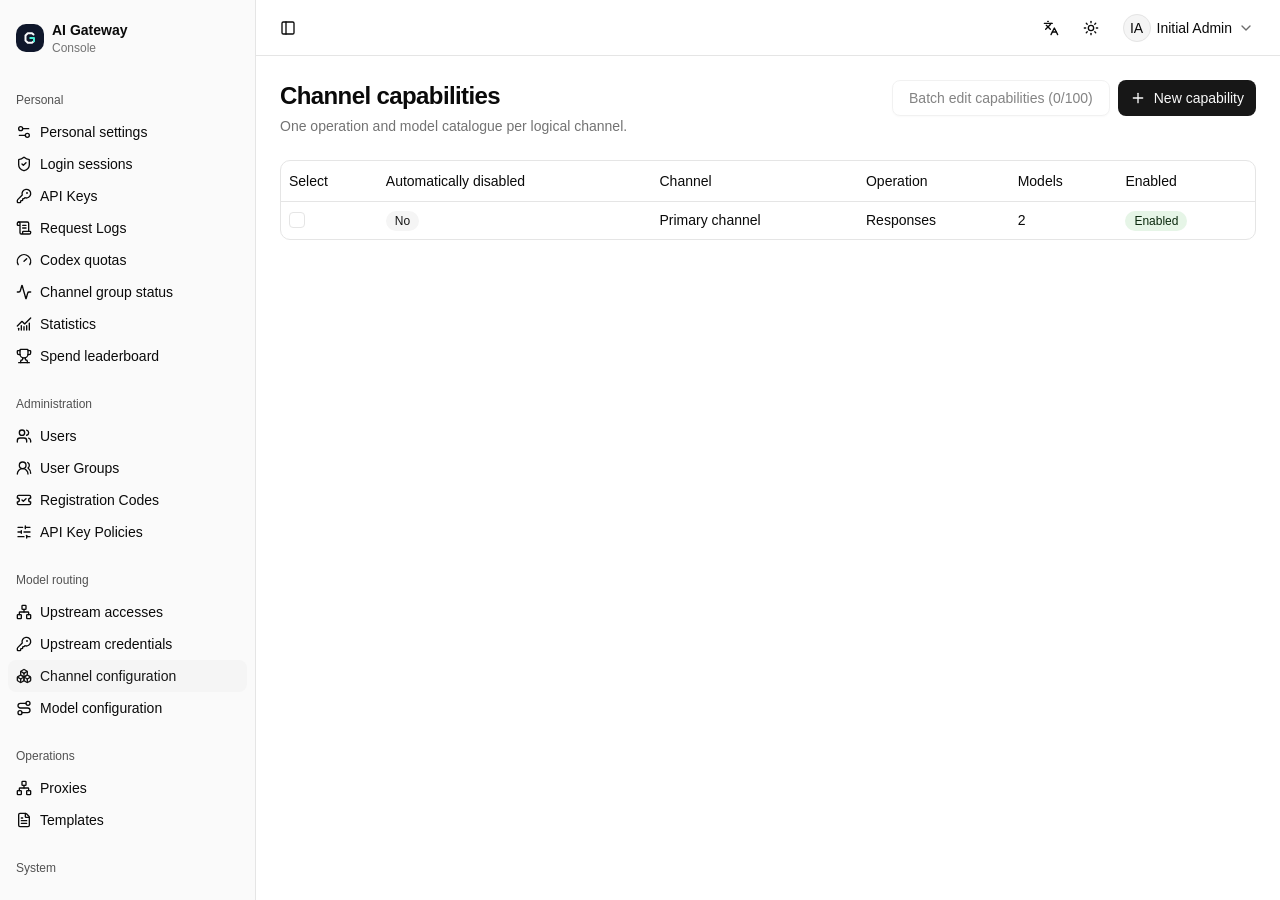
Test: channel capabilities › selects capabilities without navigating and batches only changed fields with their versions
The image size is (1280, 900).
Step 1. Click the checkbox named "Select Primary channel / Responses" → (297, 220), box [289,212,305,228]
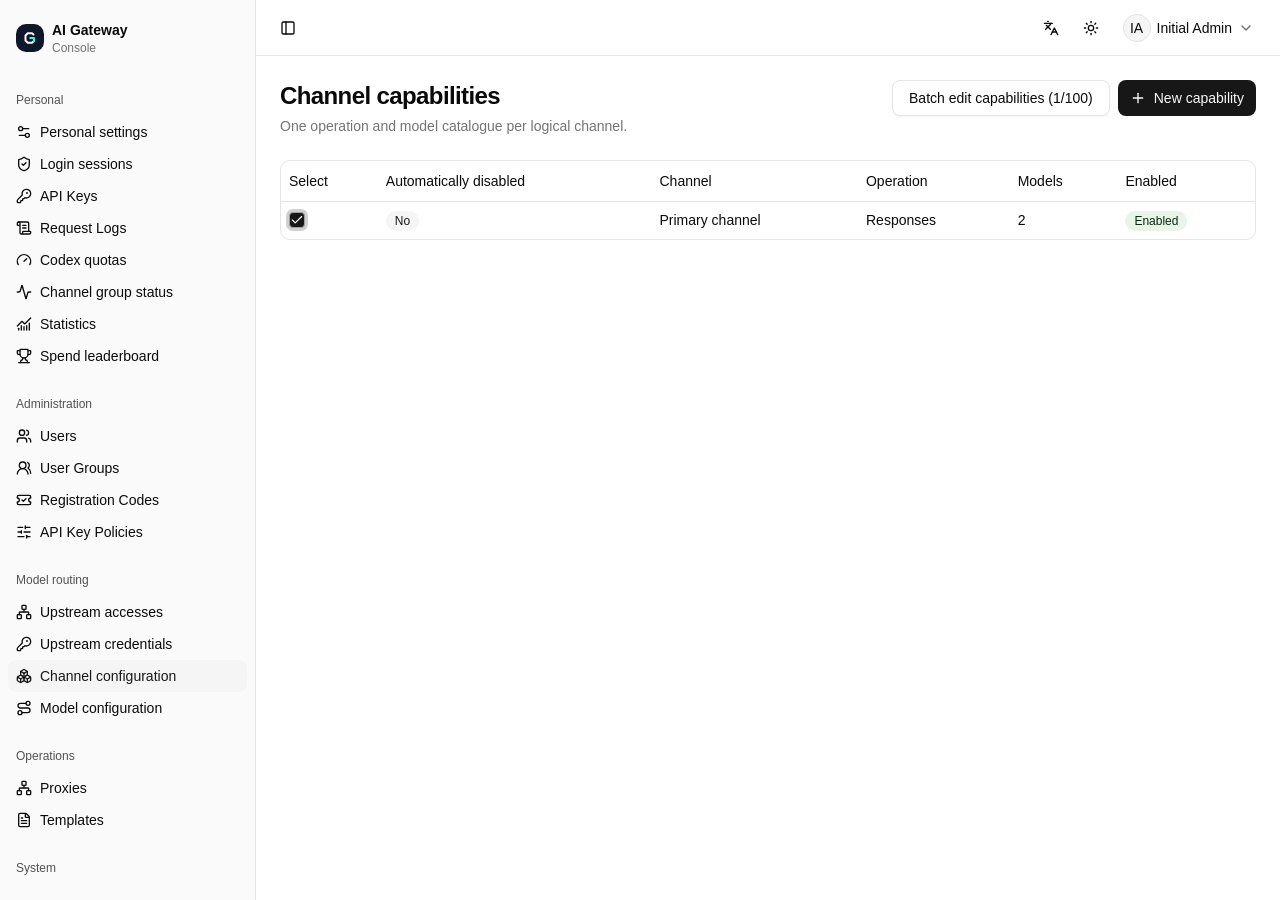
Step 2. Click the button "Batch edit capabilities (1/100)" → (1001, 98), box [892,80,1110,116]
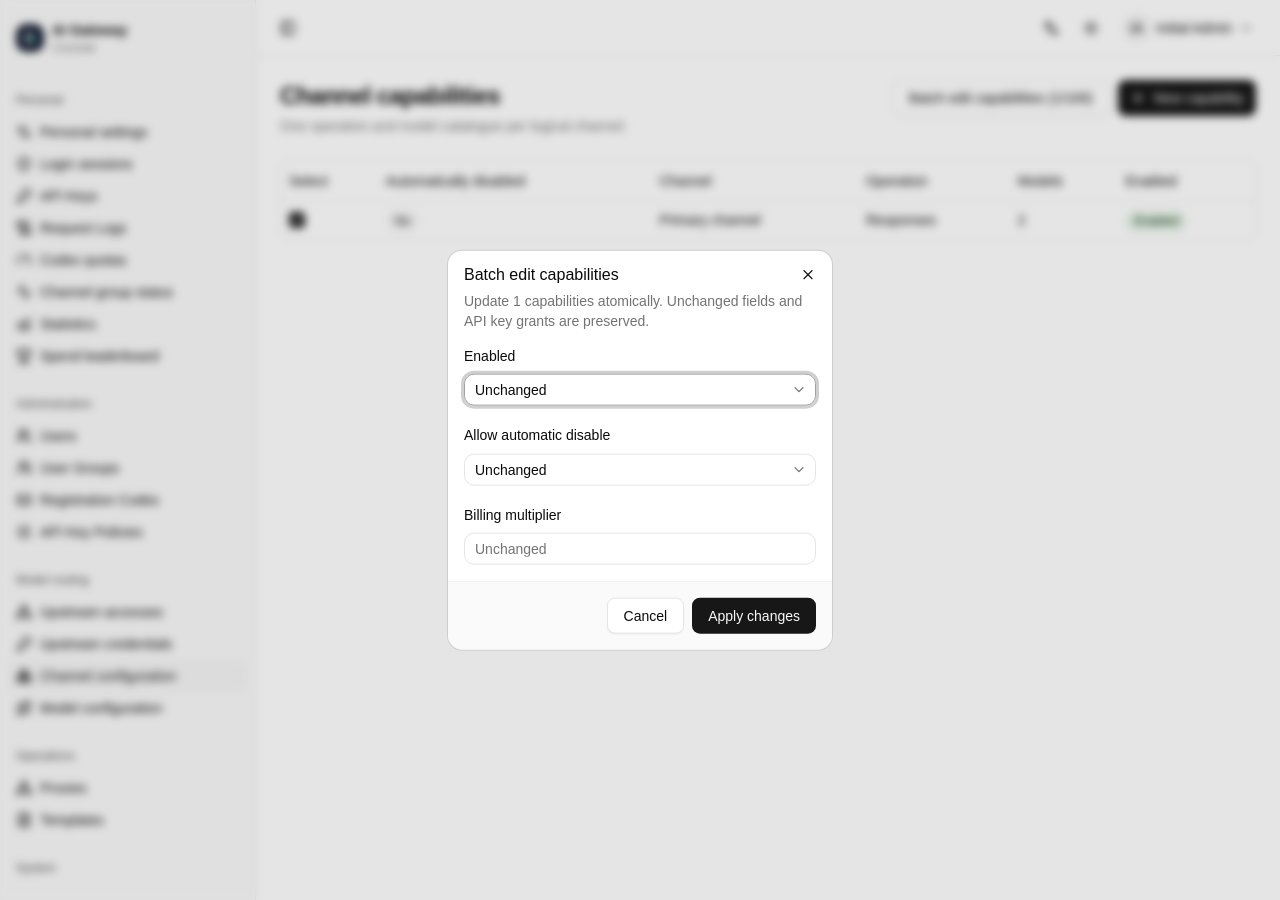
Step 3. Click the button "Apply changes" → (754, 615), box [692,597,816,633]
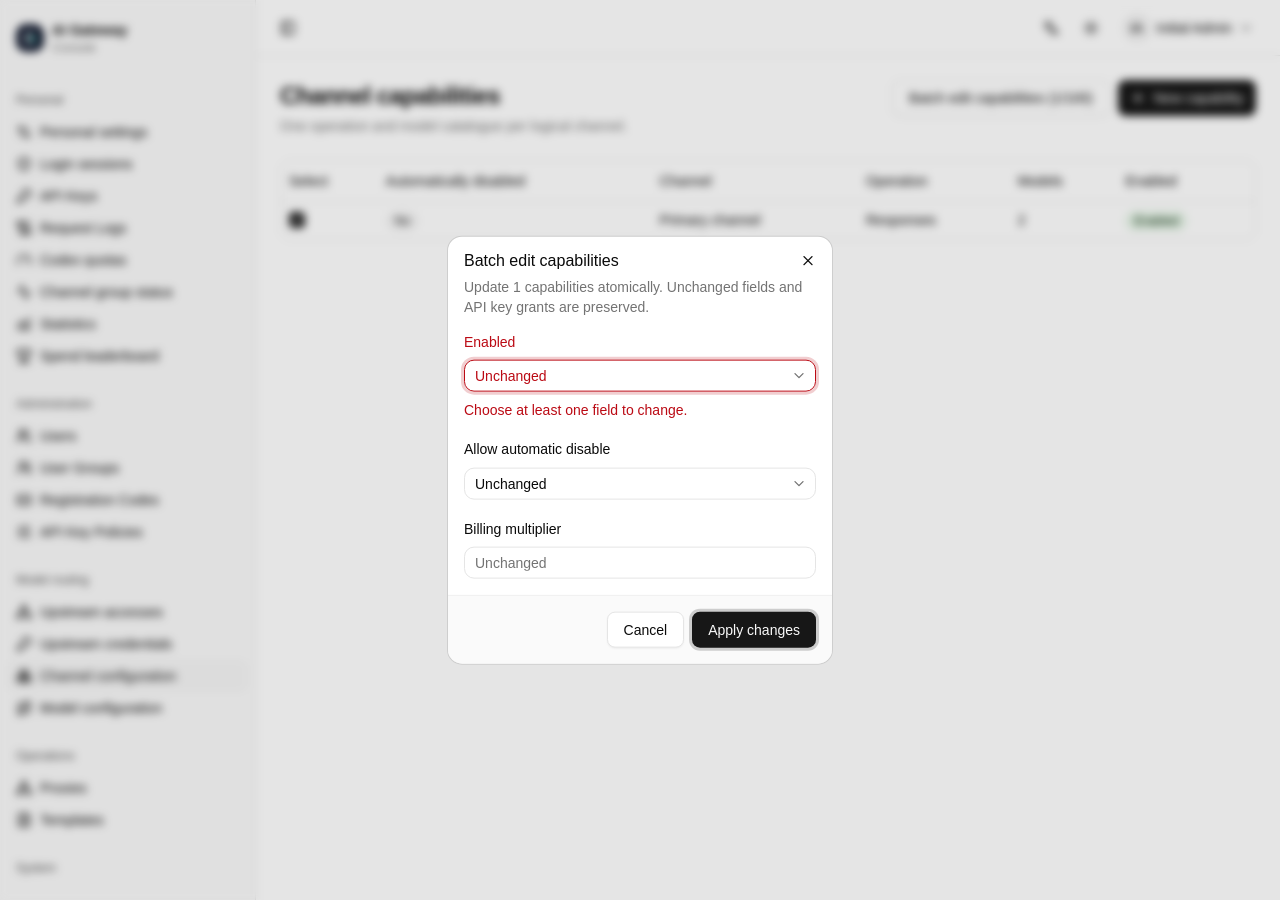
Check: the text "Choose at least one field to change." is shown, box [464,402,687,418]
Step 4. Type "1.75" into the field labelled "Billing multiplier" → (640, 562), box [464,546,816,578]
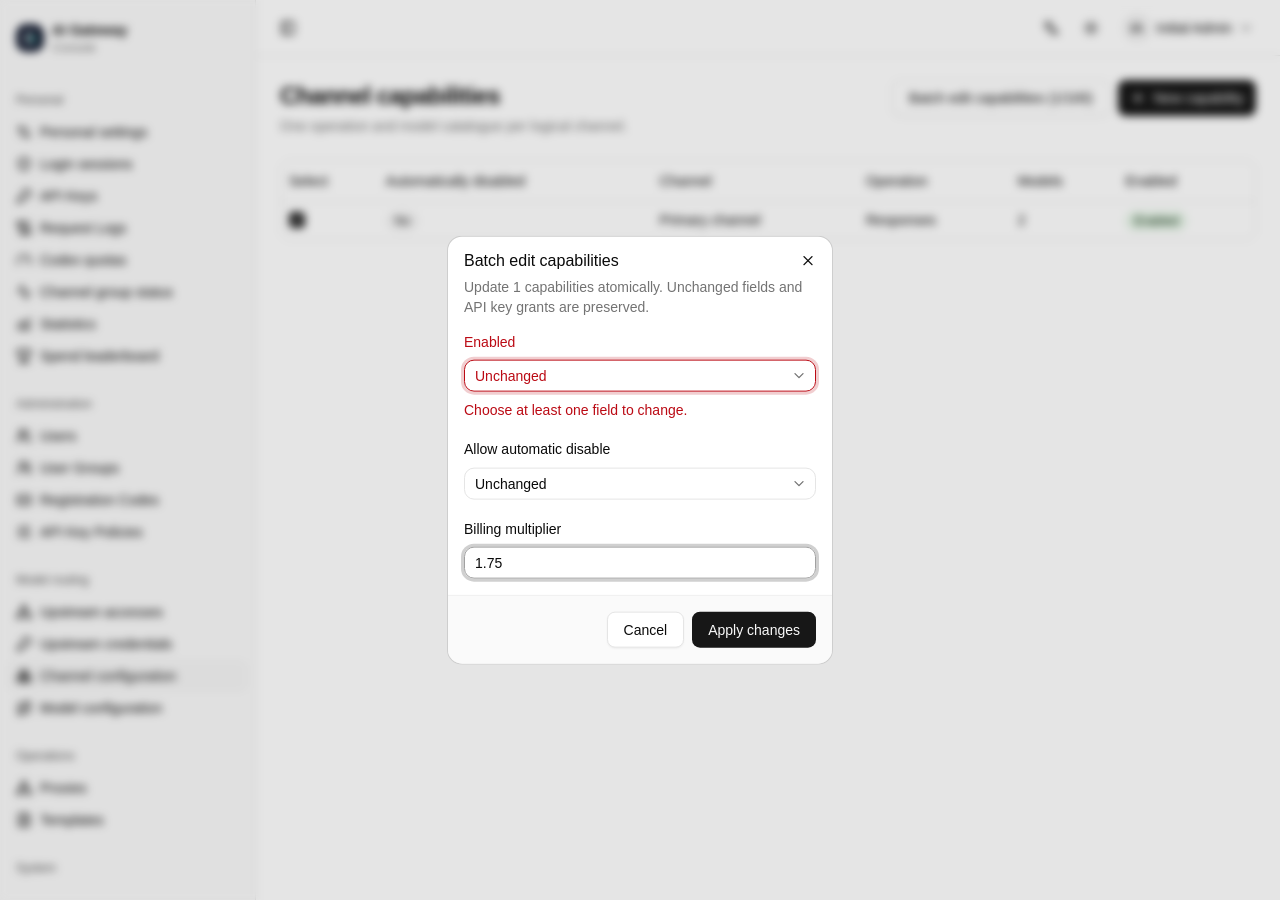
Step 5. Click the button "Apply changes" → (754, 629), box [692,611,816,647]
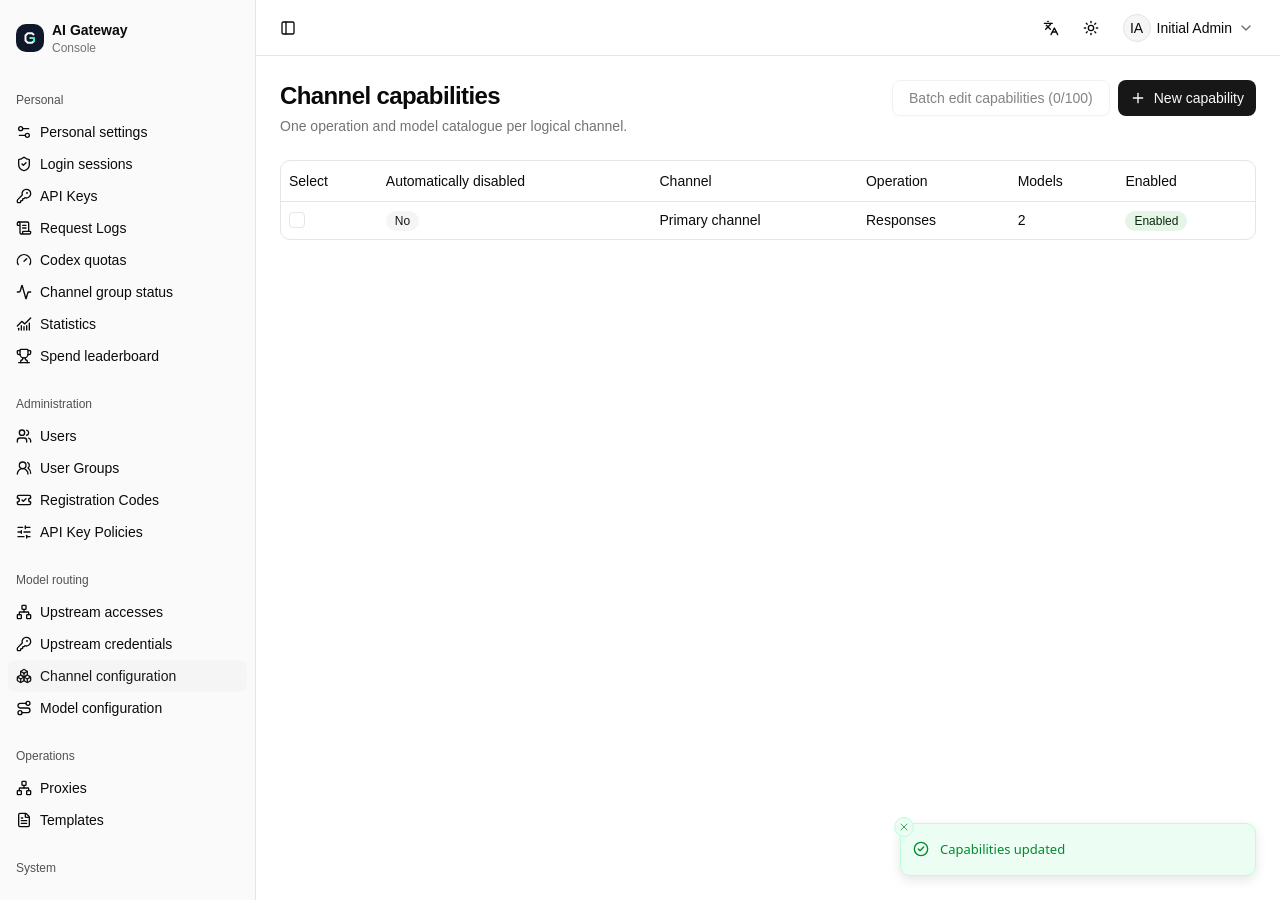
Check: the button "Batch edit capabilities (0/100)" is disabled, box [892,80,1110,116]
